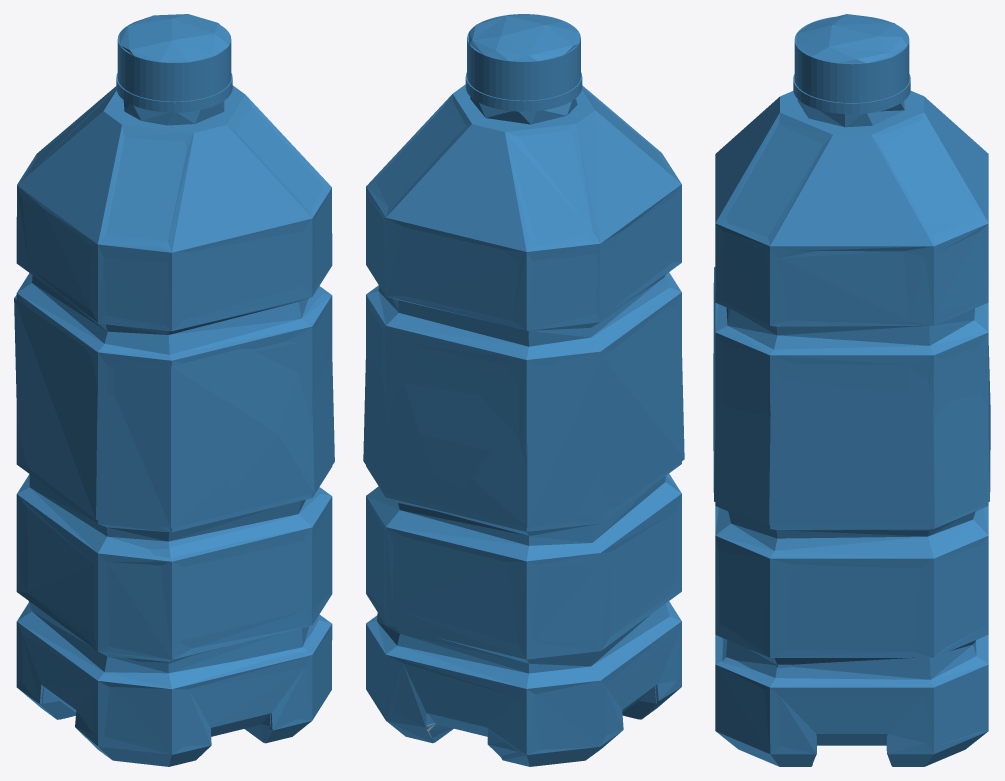
The model's file is waterBottle.glb.
3 views of the same model, side by side, from view 1: azimuth 30°, elevation 25°; view 2: azimuth 150°, elevation 25°; view 3: azimuth 270°, elevation 25° (orthographic).
Parts seen in each view (by area): view 1: Mesh_Mesh_head_geo001_lambert2SG001; view 2: Mesh_Mesh_head_geo001_lambert2SG001; view 3: Mesh_Mesh_head_geo001_lambert2SG001.
Part boxes in pixels (x1,y1,x2,y2): Mesh_Mesh_head_geo001_lambert2SG001: [14, 14, 334, 766]; Mesh_Mesh_head_geo001_lambert2SG001: [363, 14, 684, 766]; Mesh_Mesh_head_geo001_lambert2SG001: [713, 14, 990, 766].
Bounding box in the file's own units: 51 × 139 × 50.75.
